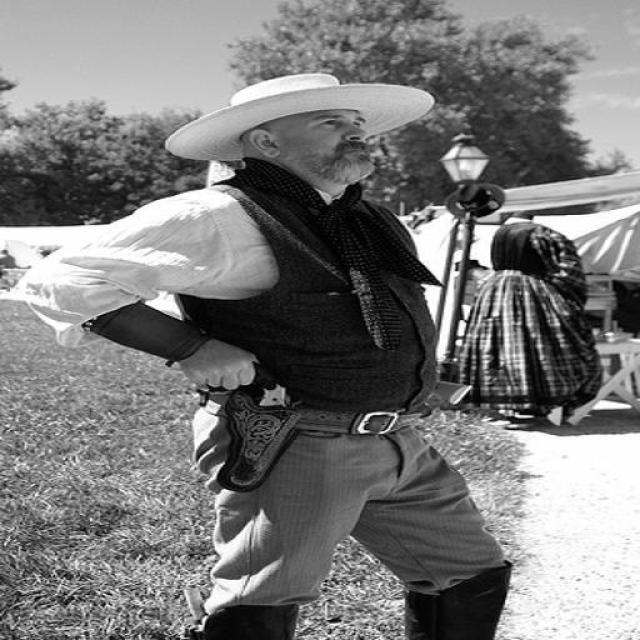pistol: (206, 355, 304, 489)
